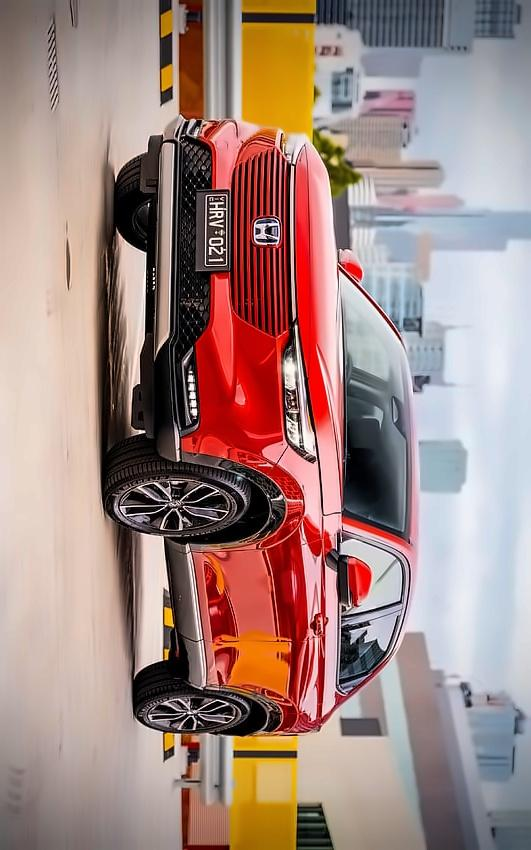Car hood: (290, 142, 352, 515)
Fender - -F-R-: (150, 445, 357, 556)
Front bumper: (134, 107, 291, 466)
Headlight - -L-: (276, 314, 325, 471)
Headlight - -R-: (277, 130, 313, 165)
Passenger-s door - -F-L-: (164, 519, 426, 641)
Passenger-s door - -R-L-: (156, 604, 419, 706)
Side bumper - -L-: (147, 538, 235, 700)
Side mirror - -L-: (324, 536, 374, 609)
